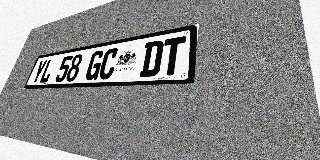5: (54, 55, 73, 82)
8: (64, 53, 84, 82)
C: (97, 47, 120, 80)
D: (139, 40, 164, 77)
G: (84, 50, 105, 81)
L: (38, 58, 57, 83)
T: (159, 36, 186, 76)
Y: (30, 60, 48, 84)
